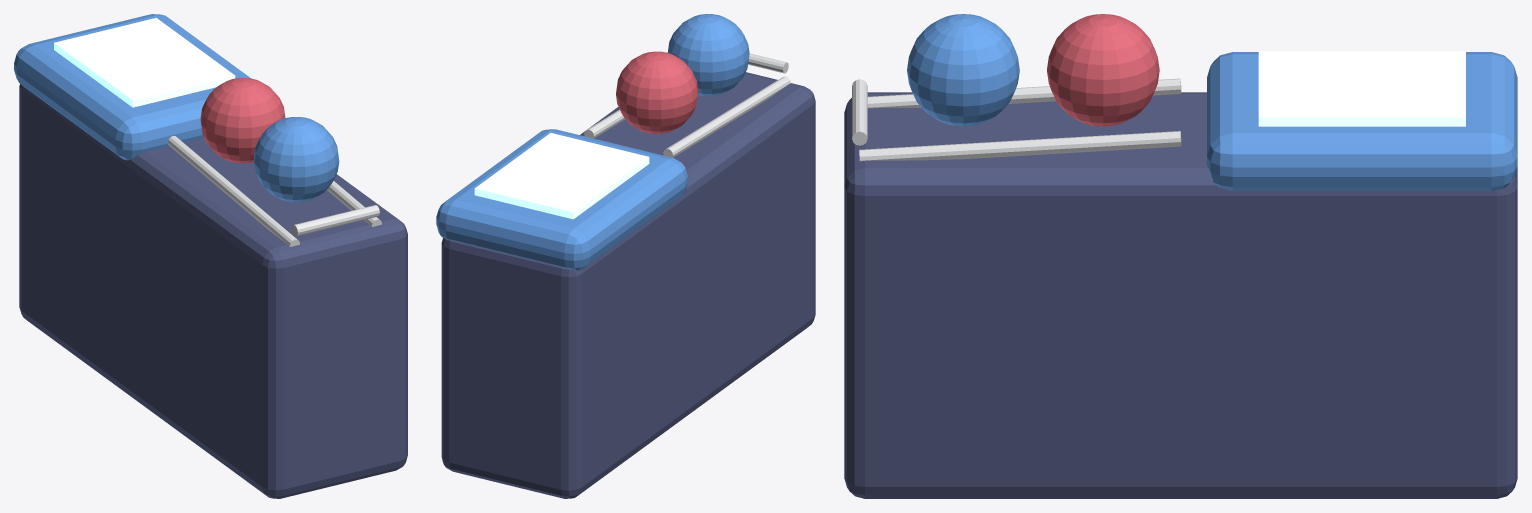
File: ballret.glb
3 views of the same model, side by side, from view 1: azimuth 30°, elevation 25°; view 2: azimuth 150°, elevation 25°; view 3: azimuth 270°, elevation 25° (orthographic). The views are drawn at different scales.
Parts seen in each view (by area): view 1: Cube, Cube.001, Cube.002, Sphere, Cylinder; view 2: Cube, Cube.001, Cube.002, Sphere, Cylinder; view 3: Cube, Cube.001, Cube.002, Sphere, Cylinder.
Part boxes in pixels (x1,y1,x2,y2): Cube: (19, 84, 407, 498); Cube.001: (14, 14, 339, 202); Cube.002: (54, 18, 235, 107); Sphere: (200, 78, 285, 163); Cylinder: (167, 136, 381, 246); Cube: (441, 72, 815, 498); Cube.001: (436, 14, 749, 270); Cube.002: (474, 133, 649, 219); Sphere: (616, 51, 698, 133); Cylinder: (584, 53, 790, 157); Cube: (844, 92, 1517, 498); Cube.001: (907, 14, 1517, 190); Cube.002: (1258, 51, 1465, 126); Sphere: (1047, 14, 1159, 126); Cylinder: (852, 78, 1181, 161).
Size of the model in its own units: 0.46 by 0.939 by 1.3.
